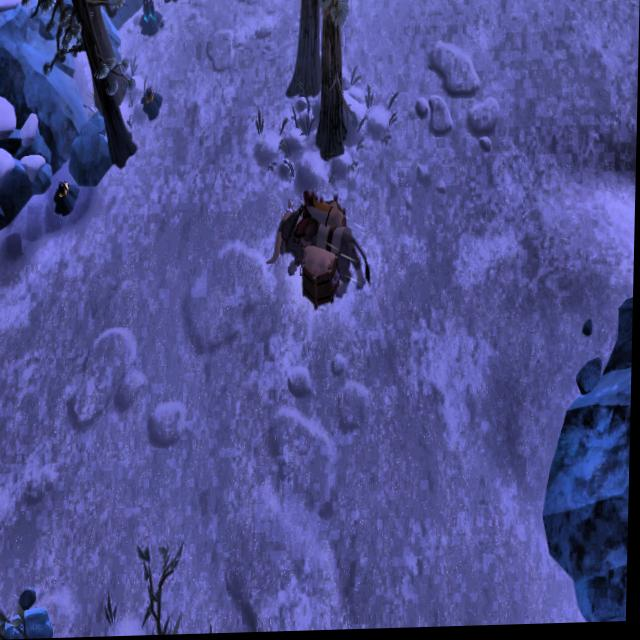ore_t4: (141, 0, 158, 31)
